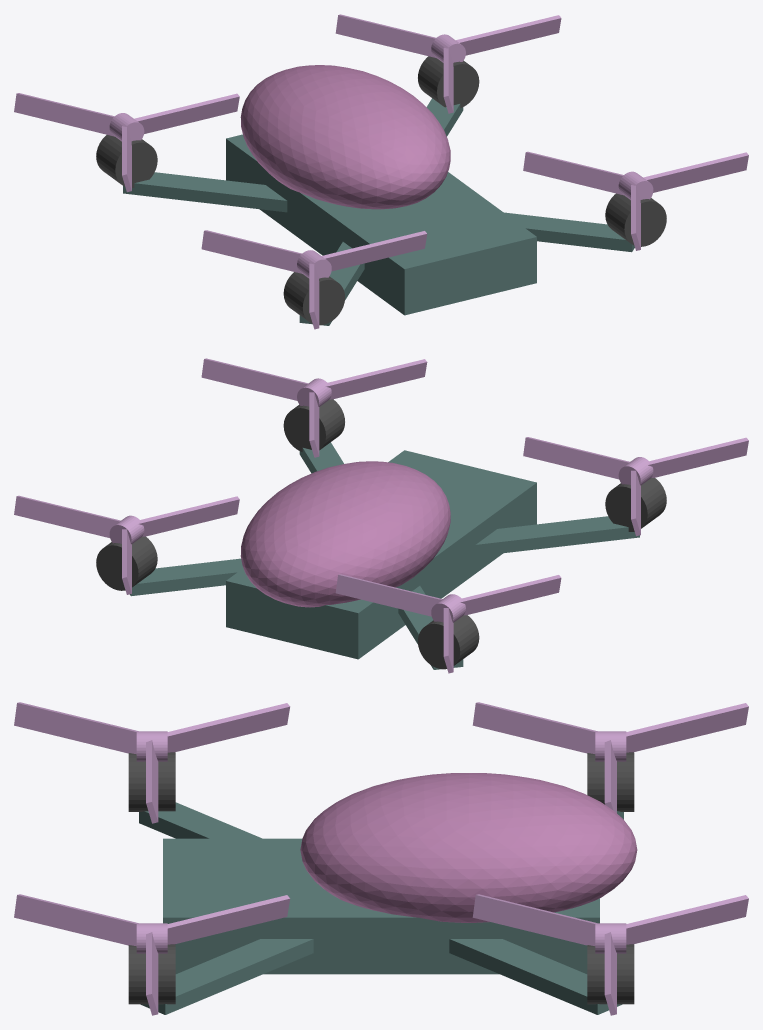
File: MAD Open.glb
3 views of the same model, one above another, from view 1: azimuth 30°, elevation 25°; view 2: azimuth 150°, elevation 25°; view 3: azimuth 270°, elevation 25° (orthographic). The views are drawn at different scales.
Parts seen in each view (by area): view 1: canopy, frame_body, prop_1, prop_2, prop_3, prop_0, arm_3, arm_0, motor_2, motor_0, motor_1, motor_3 (+2 smaller); view 2: canopy, frame_body, prop_3, prop_0, prop_1, prop_2, arm_2, arm_1, motor_3, motor_1, motor_0, motor_2 (+2 smaller); view 3: canopy, frame_body, prop_0, prop_2, prop_1, prop_3, arm_1, arm_0, arm_2, motor_0, motor_1, motor_2 (+1 smaller).
Part boxes in pixels (x1,y1,x2,y2): canopy: [240, 65, 450, 209]; frame_body: [226, 134, 536, 315]; prop_1: [335, 14, 561, 113]; prop_2: [201, 230, 427, 329]; prop_3: [14, 93, 239, 192]; prop_0: [523, 151, 748, 250]; arm_3: [123, 172, 287, 212]; arm_0: [504, 212, 634, 252]; motor_2: [283, 272, 345, 325]; motor_0: [605, 193, 666, 246]; motor_1: [418, 56, 479, 107]; motor_3: [96, 135, 157, 187]; canopy: [240, 461, 450, 607]; frame_body: [226, 450, 536, 659]; prop_3: [335, 574, 561, 673]; prop_0: [201, 358, 427, 457]; prop_1: [14, 495, 239, 594]; prop_2: [523, 437, 748, 536]; arm_2: [475, 516, 639, 556]; arm_1: [130, 558, 243, 596]; motor_3: [417, 615, 479, 669]; motor_1: [96, 536, 157, 590]; motor_0: [283, 399, 344, 451]; motor_2: [605, 478, 666, 531]; canopy: [300, 773, 637, 922]; frame_body: [163, 838, 599, 974]; prop_0: [14, 894, 290, 1015]; prop_2: [14, 702, 290, 823]; prop_1: [472, 894, 748, 1015]; prop_3: [472, 702, 748, 812]; arm_1: [449, 939, 622, 1014]; arm_0: [140, 939, 313, 1014]; arm_2: [139, 802, 261, 838]; motor_0: [128, 944, 175, 1004]; motor_1: [587, 944, 634, 1004]; motor_2: [128, 752, 175, 811].
Bounding box in the file's own units: 0.2223 × 0.0516 × 0.2355.
